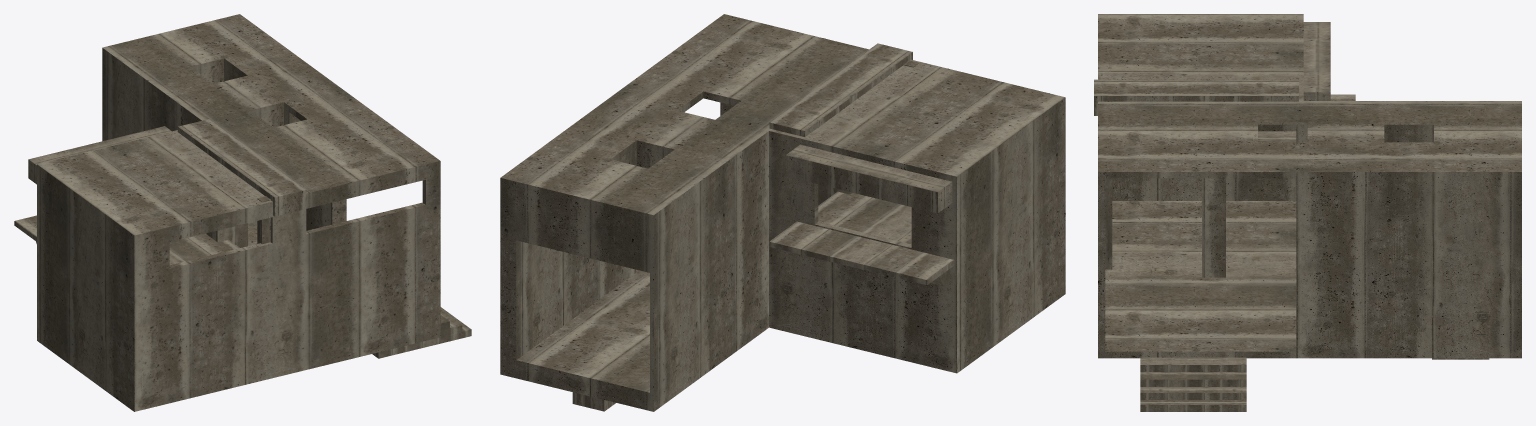
The picture shows the model from 3 angles, left to right: view 1: azimuth 30°, elevation 25°; view 2: azimuth 150°, elevation 25°; view 3: azimuth 270°, elevation 25°; orthographic projection. The views are drawn at different scales.
Parts seen in each view (by area): view 1: building; view 2: building; view 3: building.
Part boxes in pixels (x1=…): building: x1=14, y1=14, x2=471, y2=411; building: x1=500, y1=14, x2=1065, y2=411; building: x1=1094, y1=14, x2=1521, y2=411.
Bounding box in the file's own units: 84.79 × 47.14 × 83.22.
Materials: 3 (1 with a texture image).
